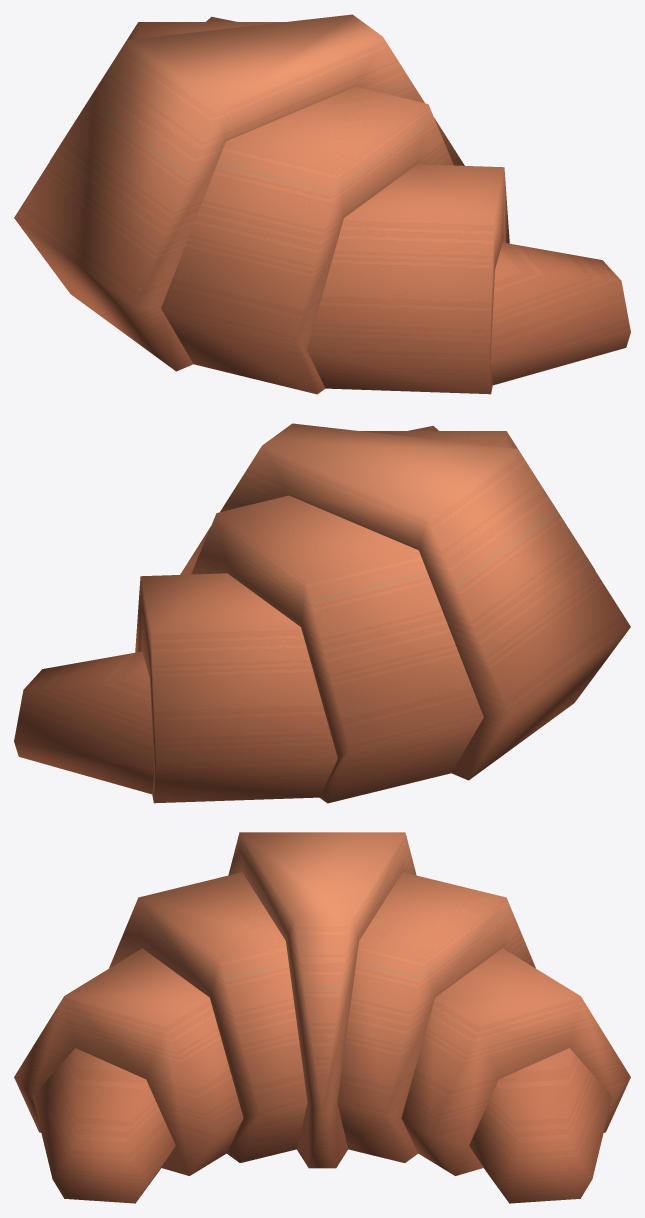
Rendered from croissant.glb.
The picture shows the model from 3 angles, top to bottom: view 1: azimuth 30°, elevation 25°; view 2: azimuth 150°, elevation 25°; view 3: azimuth 270°, elevation 25°; orthographic projection. The views are drawn at different scales.
Visible parts, largest first — view 1: croissant; view 2: croissant; view 3: croissant.
Boxes of the visible parts, bbox=[...] form: croissant: bbox=[14, 14, 630, 394]; croissant: bbox=[14, 423, 630, 803]; croissant: bbox=[14, 832, 630, 1203].
Bounding box in the file's own units: 0.3461 × 0.1936 × 0.4777.
1 material, 1 textured.
